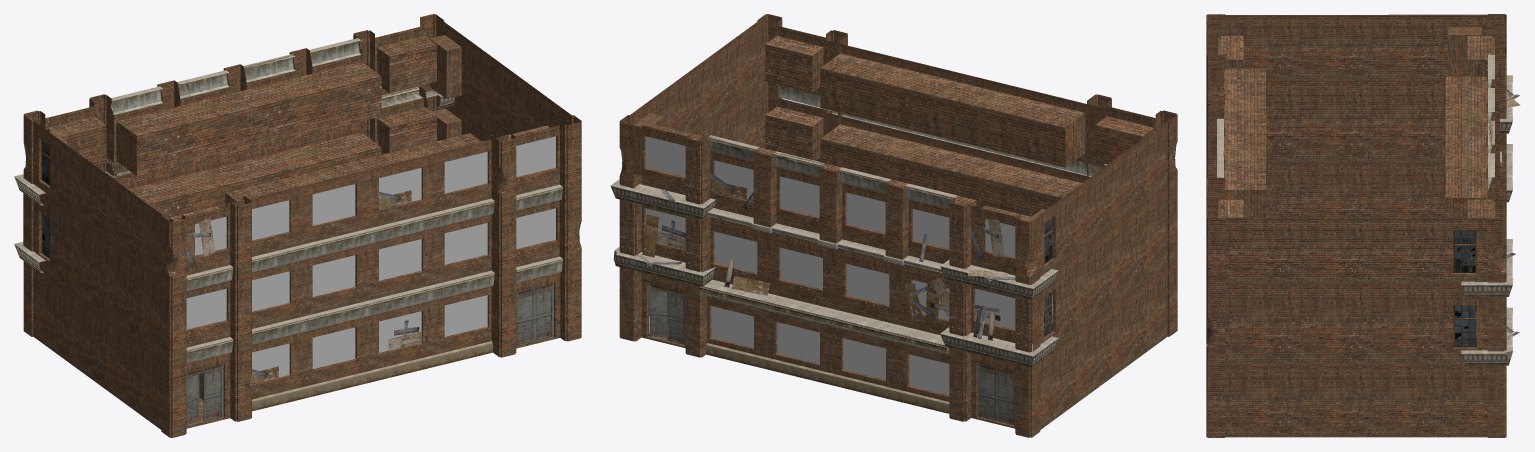
File: Build4_el1_LOD1.fbx
The picture shows the model from 3 angles, left to right: view 1: azimuth 30°, elevation 25°; view 2: azimuth 150°, elevation 25°; view 3: azimuth 270°, elevation 25°; orthographic projection.
Visible parts, largest first — view 1: polySurface107; view 2: polySurface107; view 3: polySurface107.
Part boxes in pixels (left/top/right/bottom): polySurface107: left=14, top=14, right=581, bottom=437; polySurface107: left=610, top=14, right=1177, bottom=437; polySurface107: left=1206, top=14, right=1520, bottom=437.
Size of the model in its own units: 46.84 by 22.87 by 29.67.
